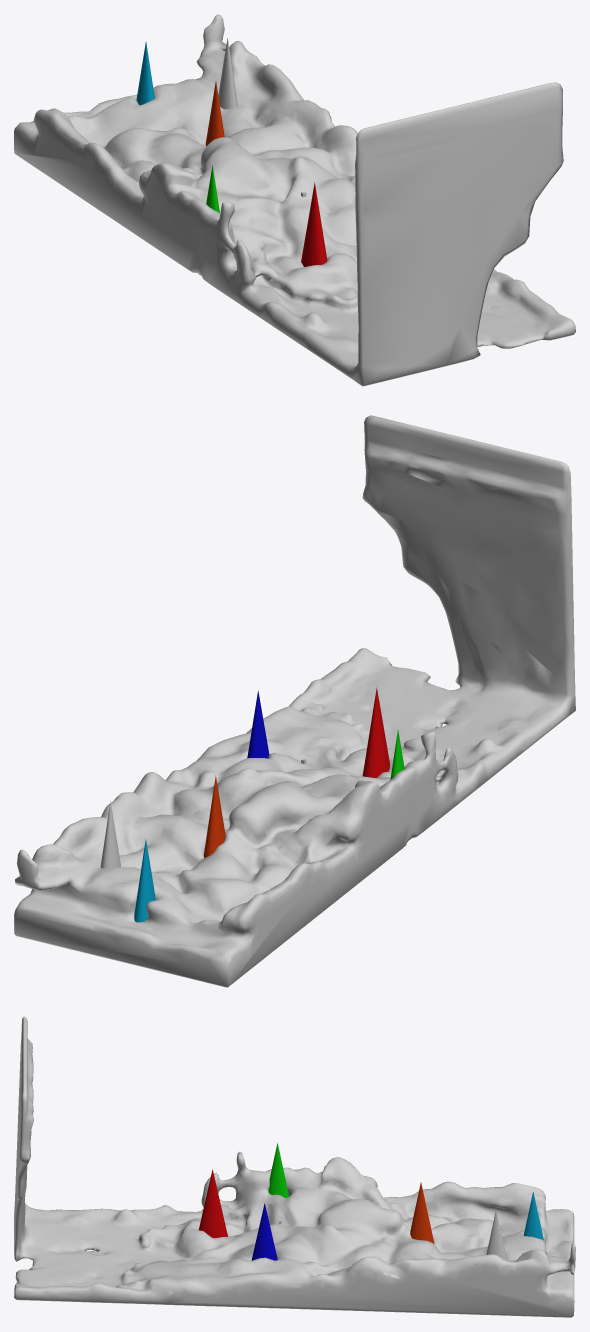
The picture shows the model from 3 angles, top to bottom: view 1: azimuth 30°, elevation 25°; view 2: azimuth 150°, elevation 25°; view 3: azimuth 270°, elevation 25°; orthographic projection. The views are drawn at different scales.
Parts seen in each view (by area): view 1: Liquid_Domain, 円錐.001, 円錐, 円錐.005, 円錐.004; view 2: Liquid_Domain, 円錐.001, 円錐.005, 円錐.004, 円錐.002, 円錐; view 3: Liquid_Domain, 円錐.001, 円錐.004, 円錐.002, 円錐.003, 円錐, 円錐.005.
Boxes of the visible parts, box(x1,y1,x2,y2) form: Liquid_Domain: box(14, 14, 575, 386); 円錐.001: box(301, 182, 327, 266); 円錐: box(218, 38, 237, 109); 円錐.005: box(136, 41, 154, 104); 円錐.004: box(205, 81, 224, 145); Liquid_Domain: box(14, 415, 575, 987); 円錐.001: box(362, 687, 389, 777); 円錐.005: box(134, 839, 155, 922); 円錐.004: box(203, 775, 225, 857); 円錐.002: box(247, 690, 269, 758); 円錐: box(100, 801, 120, 868); Liquid_Domain: box(14, 1016, 575, 1317); 円錐.001: box(198, 1169, 227, 1237); 円錐.004: box(410, 1182, 434, 1243); 円錐.002: box(251, 1203, 277, 1260); 円錐.003: box(268, 1143, 289, 1197); 円錐: box(486, 1209, 506, 1260); 円錐.005: box(523, 1192, 546, 1253).
Bounding box in the file's own units: 129 × 157 × 362.
